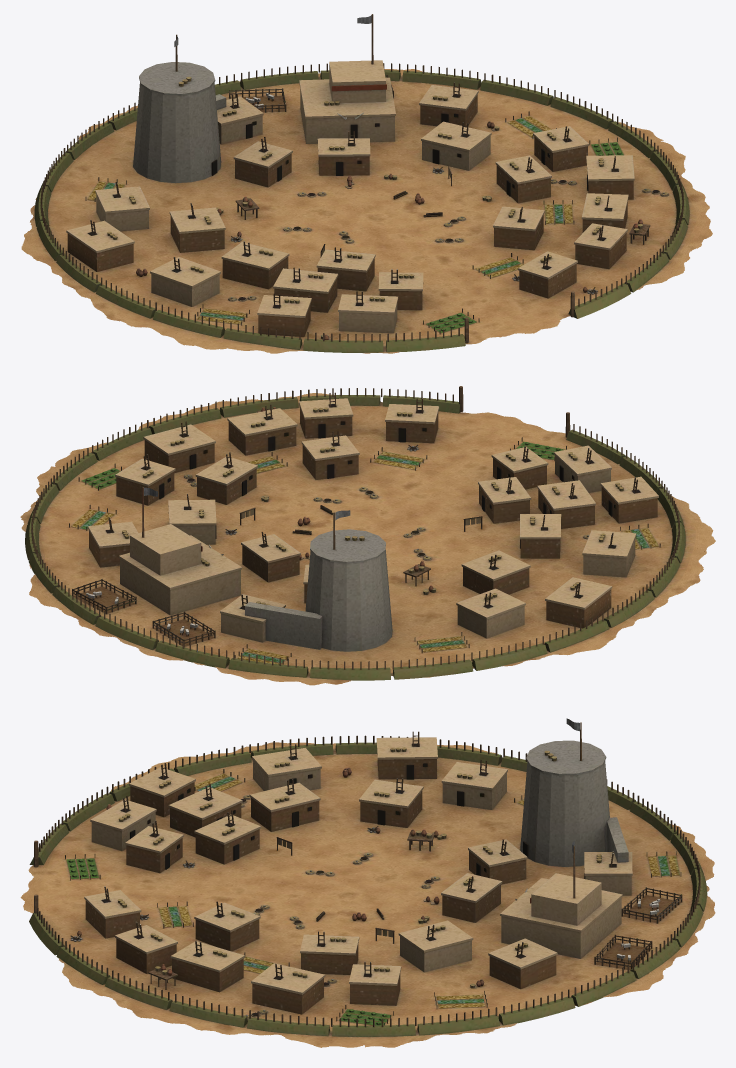
Rendered from stone-town-big-b-levant.glb.
3 views of the same model, one above another, from view 1: azimuth 30°, elevation 25°; view 2: azimuth 150°, elevation 25°; view 3: azimuth 270°, elevation 25° (orthographic). The views are drawn at different scales.
Visible parts, largest first — view 1: LOD0; view 2: LOD0; view 3: LOD0.
Boxes of the visible parts, bbox=[...] form: LOD0: bbox=[21, 14, 712, 353]; LOD0: bbox=[20, 386, 715, 685]; LOD0: bbox=[20, 718, 715, 1047].
Size of what is drawn, in the model's own units: 7.99 by 1.55 by 7.61.
Materials: 3 (3 with a texture image).
